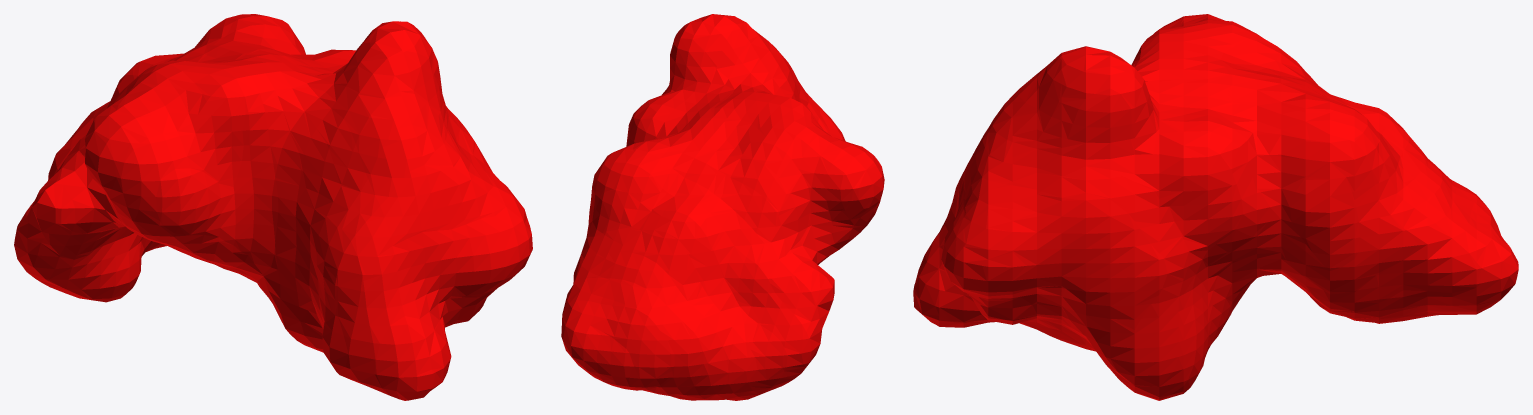
The model's file is pdxH_coarse.dae.
3 renders of one model, left to right at view 1: azimuth 30°, elevation 25°; view 2: azimuth 150°, elevation 25°; view 3: azimuth 270°, elevation 25°, orthographic. The views are drawn at different scales.
Visible parts, largest first — view 1: pdxH; view 2: pdxH; view 3: pdxH.
Part boxes in pixels (bbox=[...]): pdxH: bbox=[14, 14, 532, 400]; pdxH: bbox=[561, 14, 884, 400]; pdxH: bbox=[913, 14, 1518, 400].
Size of the model in its own units: 44.98 by 43.93 by 70.68.
